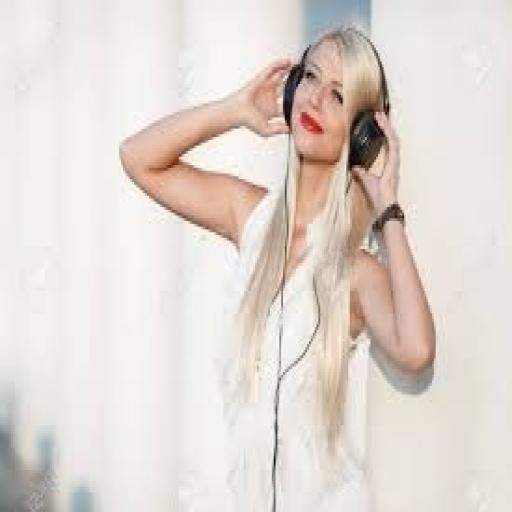listening_to_music: (118, 22, 440, 510)
